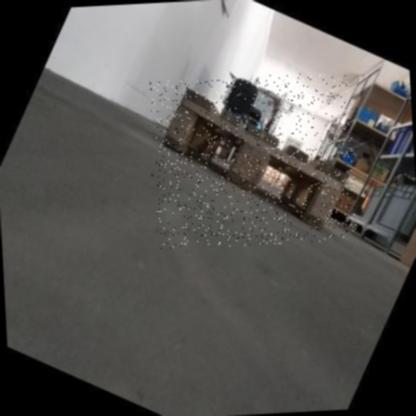pallet: (165, 90, 349, 230)
